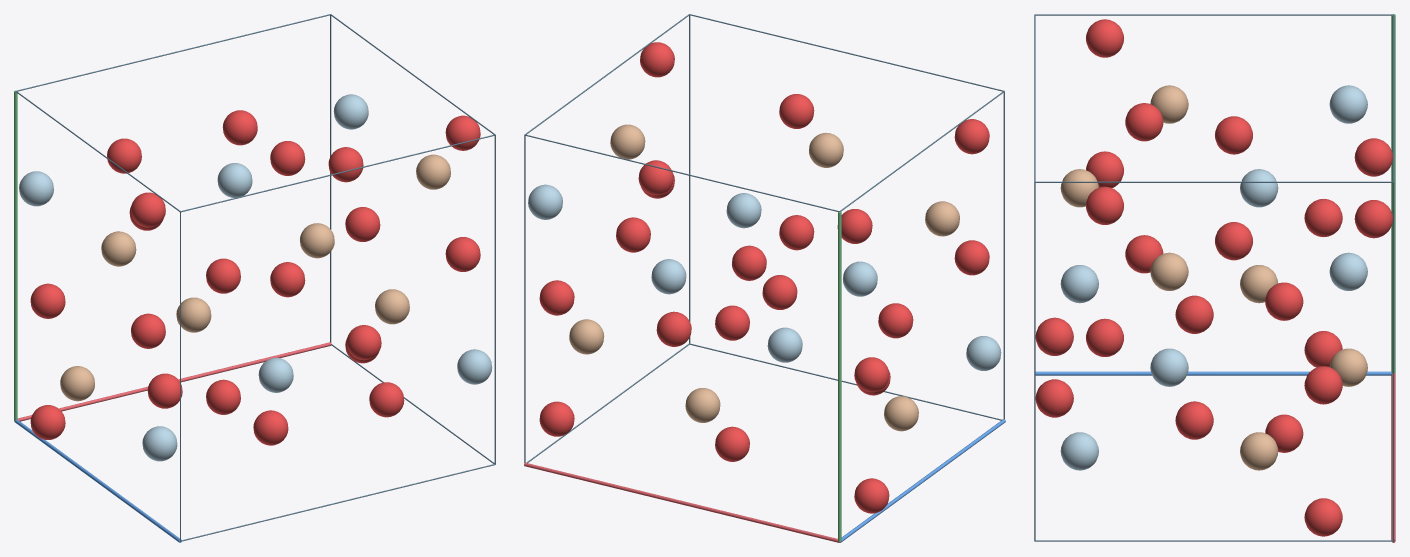
Rendered from zircon.glb.
3 renders of one model, left to right at view 1: azimuth 30°, elevation 25°; view 2: azimuth 150°, elevation 25°; view 3: azimuth 270°, elevation 25°, orthographic. The views are drawn at different scales.
Visible parts, largest first — view 1: O · O · 1 (×18), Ô mạng và các trục a, b, c, Zr · Zr · 1 (×6), Si · Si · 1 (×6); view 2: O · O · 1 (×18), Ô mạng và các trục a, b, c, Zr · Zr · 1 (×6), Si · Si · 1 (×6); view 3: O · O · 1 (×20), Ô mạng và các trục a, b, c, Zr · Zr · 1 (×6), Si · Si · 1 (×6).
Part boxes in pixels (x1=…): O · O · 1 (×18): x1=30, y1=110, x2=480, y2=445; Ô mạng và các trục a, b, c: x1=14, y1=14, x2=495, y2=542; Zr · Zr · 1 (×6): x1=19, y1=94, x2=492, y2=461; Si · Si · 1 (×6): x1=60, y1=154, x2=450, y2=401; O · O · 1 (×18): x1=539, y1=42, x2=989, y2=513; Ô mạng và các trục a, b, c: x1=524, y1=14, x2=1005, y2=542; Zr · Zr · 1 (×6): x1=528, y1=184, x2=1001, y2=370; Si · Si · 1 (×6): x1=569, y1=124, x2=959, y2=431; O · O · 1 (×20): x1=1035, y1=19, x2=1392, y2=536; Ô mạng và các trục a, b, c: x1=1034, y1=14, x2=1395, y2=542; Zr · Zr · 1 (×6): x1=1060, y1=85, x2=1367, y2=470; Si · Si · 1 (×6): x1=1060, y1=85, x2=1367, y2=470.
Bounding box in the file's own units: 7.24 × 6.65 × 6.03.
